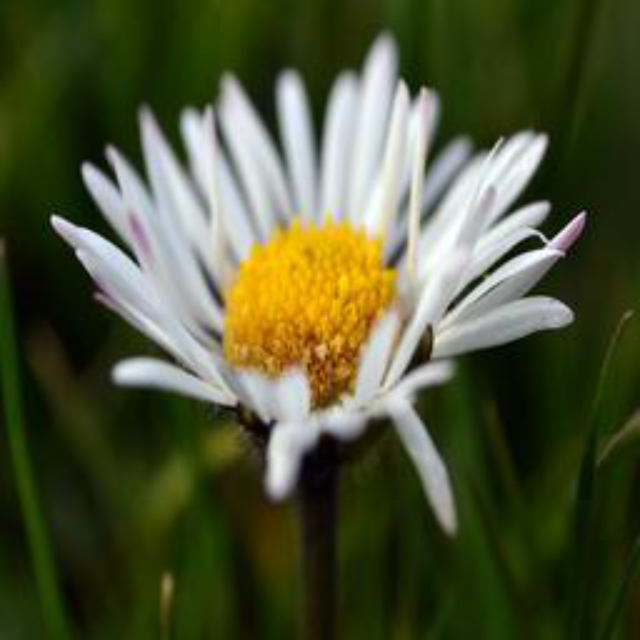daisy: (43, 29, 591, 534)
